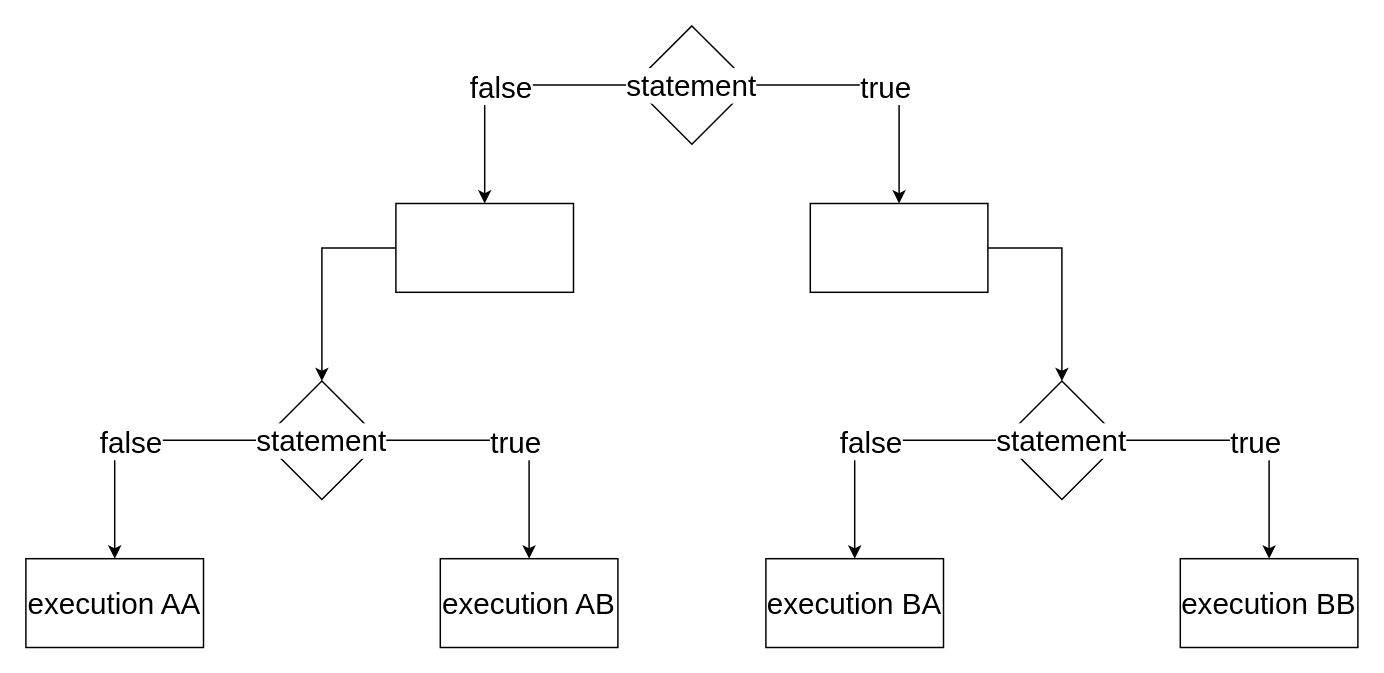
Some shapes in this 1384 by 673 pixel diagram are drawn without their labels. Here are the shapes that lost their labels. From the top down, the centre of each, then its label:
point (484, 247): execution A
point (898, 247): execution B
